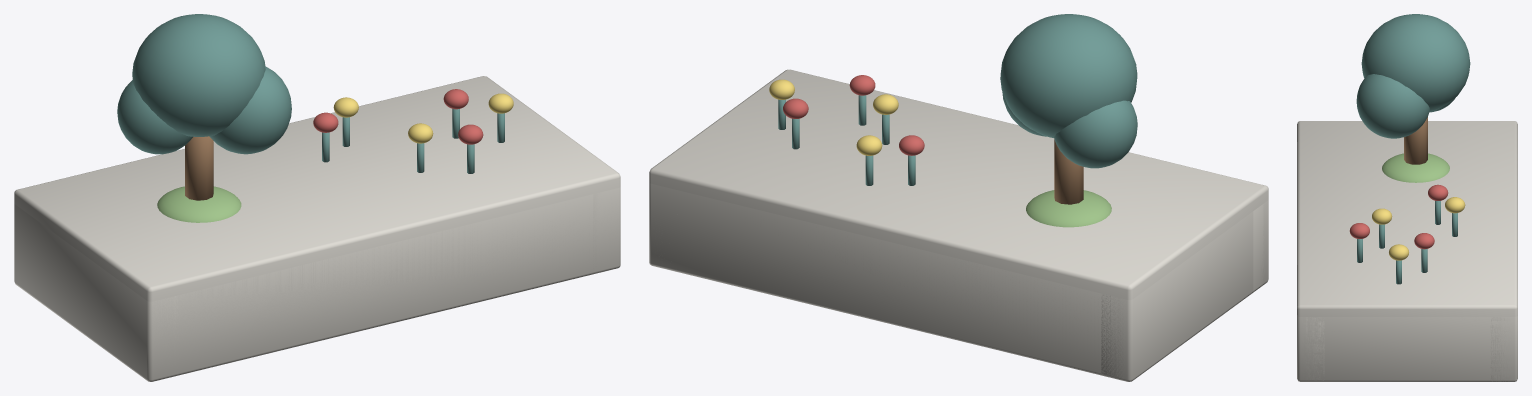
File: aiuola.glb
3 views of the same model, side by side, from view 1: azimuth 30°, elevation 25°; view 2: azimuth 150°, elevation 25°; view 3: azimuth 270°, elevation 25° (orthographic). The views are drawn at different scales.
Visible parts, largest first — view 1: COL_aiuola, cordolo_s, chioma_a, cordolo_o, chioma_b, chioma_c, ciuffo, tronco; view 2: COL_aiuola, cordolo_n, cordolo_o, chioma_a, chioma_c, ciuffo, tronco, cordolo_s; view 3: COL_aiuola, cordolo_e, chioma_a, chioma_b, ciuffo, cordolo_s, cordolo_n, tronco, fiore_0, fiore_3, fiore_1, fiore_4 (+2 smaller).
Part boxes in pixels (x1,y1,x2,y2): COL_aiuola: [14, 76, 620, 379]; cordolo_s: [134, 187, 620, 381]; chioma_a: [132, 14, 265, 136]; cordolo_o: [14, 204, 178, 381]; chioma_b: [209, 66, 291, 154]; chioma_c: [117, 80, 192, 154]; ciuffo: [157, 186, 241, 222]; tronco: [185, 136, 213, 200]; COL_aiuola: [649, 69, 1268, 377]; cordolo_n: [649, 183, 1132, 381]; cordolo_o: [1101, 200, 1268, 381]; chioma_a: [1000, 14, 1137, 137]; chioma_c: [1054, 100, 1137, 168]; ciuffo: [1026, 190, 1111, 227]; tronco: [1054, 139, 1083, 204]; cordolo_s: [1253, 204, 1266, 290]; COL_aiuola: [1297, 121, 1517, 377]; cordolo_e: [1297, 316, 1517, 381]; chioma_a: [1361, 14, 1470, 111]; chioma_b: [1356, 74, 1429, 138]; ciuffo: [1382, 153, 1449, 182]; cordolo_s: [1297, 316, 1324, 381]; cordolo_n: [1490, 316, 1517, 381]; tronco: [1404, 117, 1427, 164]; fiore_0: [1428, 184, 1448, 200]; fiore_3: [1445, 197, 1465, 213]; fiore_1: [1372, 208, 1392, 224]; fiore_4: [1349, 223, 1369, 238].
Size of the model in its own units: 2.6 by 1.47 by 1.3.
